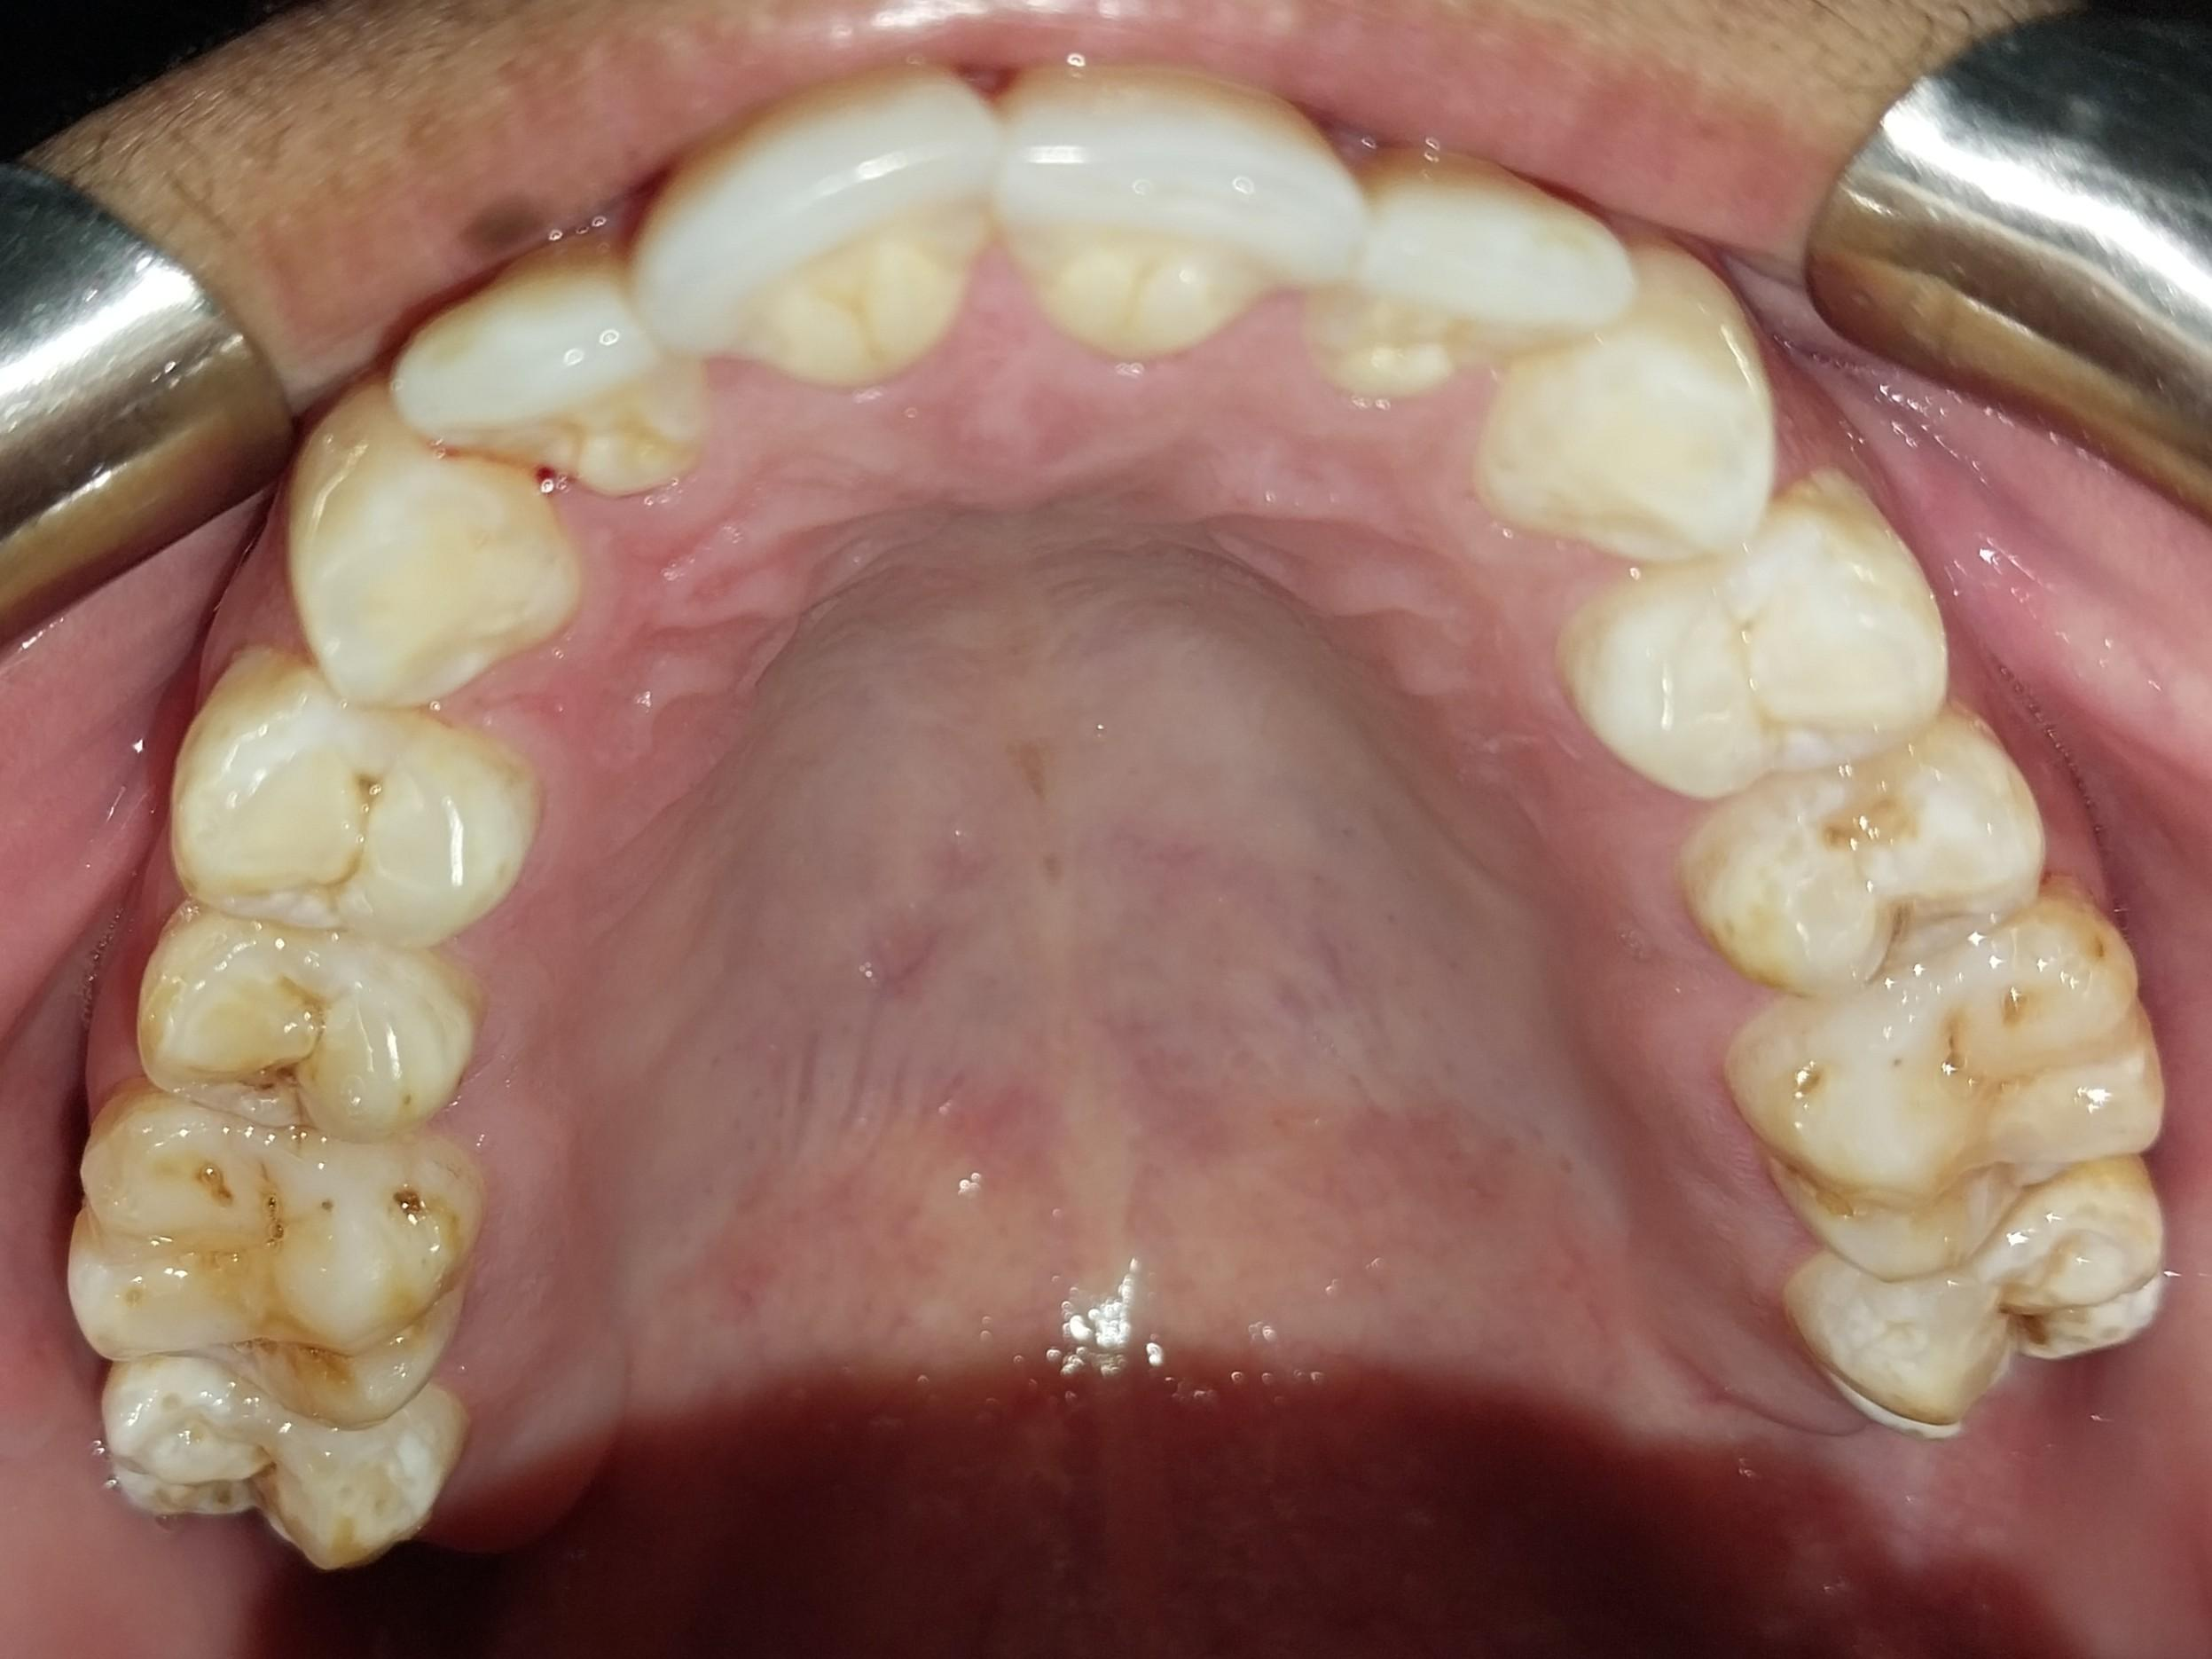D: (61, 1092, 475, 1429), (1674, 709, 2047, 994), (144, 907, 468, 1141)
